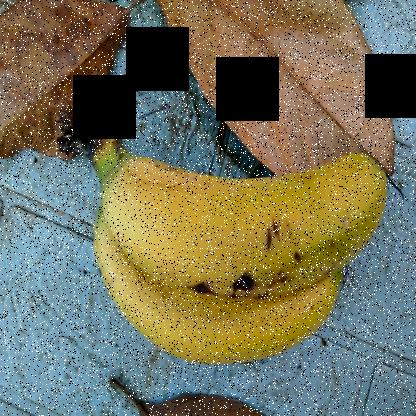freshripe: (68, 309, 289, 377)
ripe: (72, 132, 413, 312)
